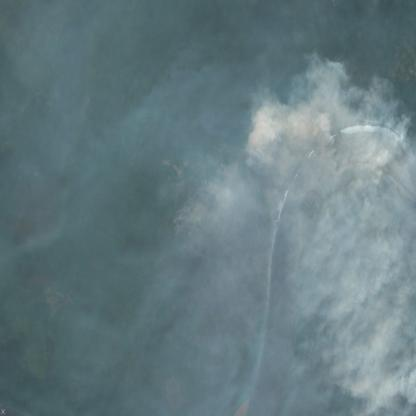fire: (172, 124, 308, 260)
